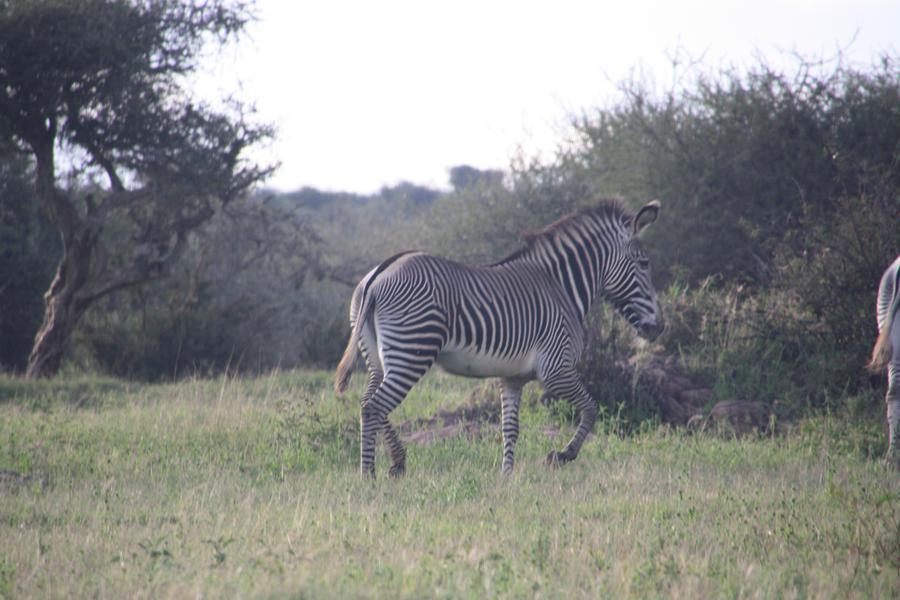zebra_grevys: (353, 234, 585, 367)
